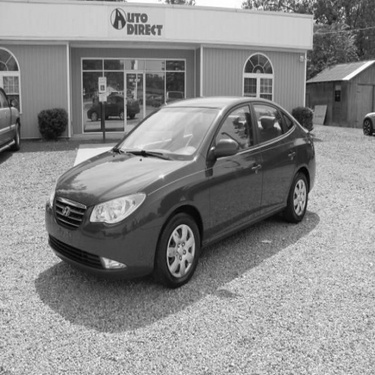car: (31, 90, 323, 268)
